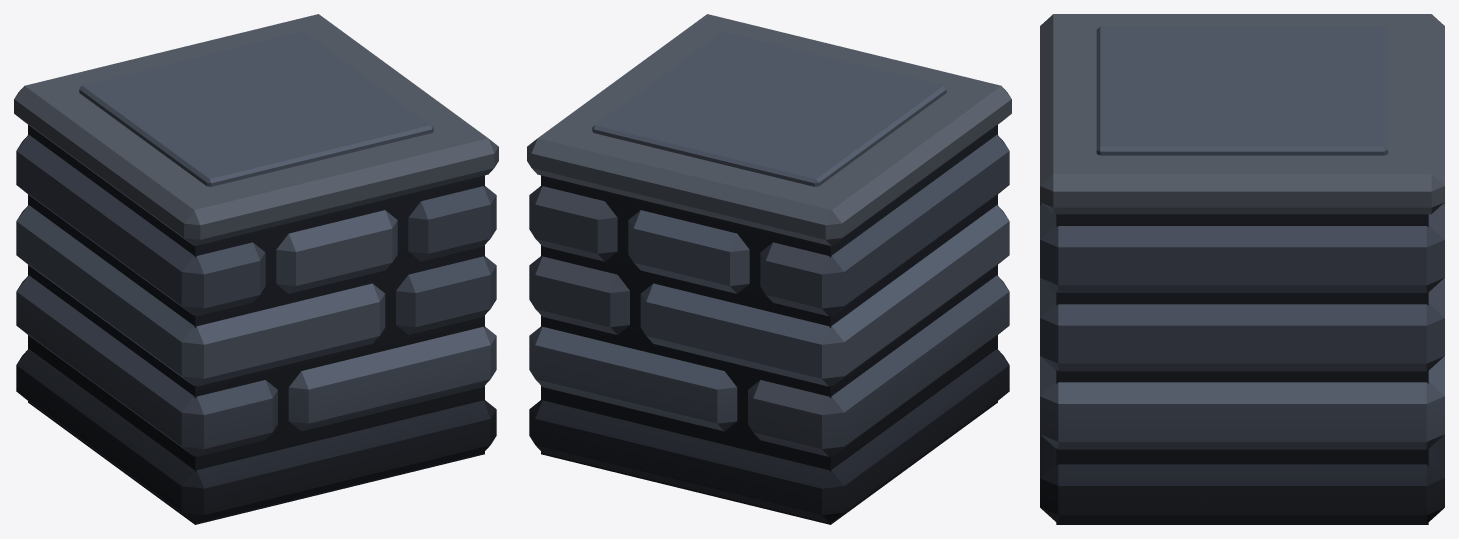
Rendered from ashlar-wall.glb.
3 renders of one model, left to right at view 1: azimuth 30°, elevation 25°; view 2: azimuth 150°, elevation 25°; view 3: azimuth 270°, elevation 25°, orthographic. The views are drawn at different scales.
Parts seen in each view (by area): view 1: mesh_ashlar_wall; view 2: mesh_ashlar_wall; view 3: mesh_ashlar_wall.
Boxes of the visible parts, x1,y1,x2,y2 form: mesh_ashlar_wall: (14, 14, 498, 524); mesh_ashlar_wall: (527, 14, 1011, 524); mesh_ashlar_wall: (1040, 14, 1444, 524).
Bounding box in the file's own units: 1 × 0.98 × 1.
